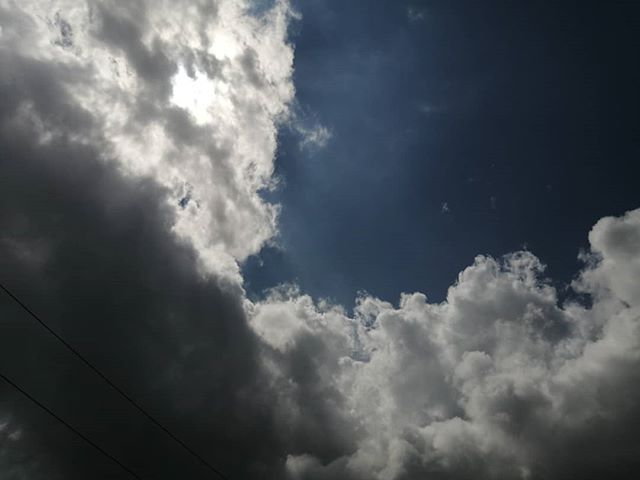sky: (6, 1, 640, 474)
